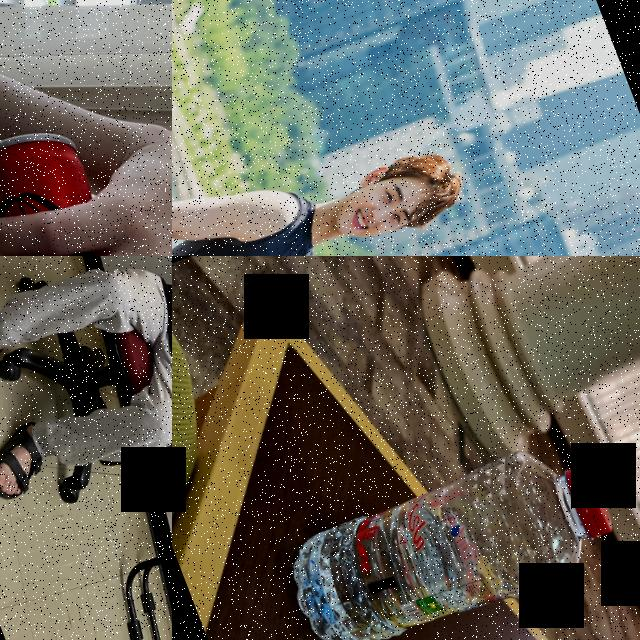bottle: (279, 428, 627, 640)
can: (0, 115, 172, 256)
